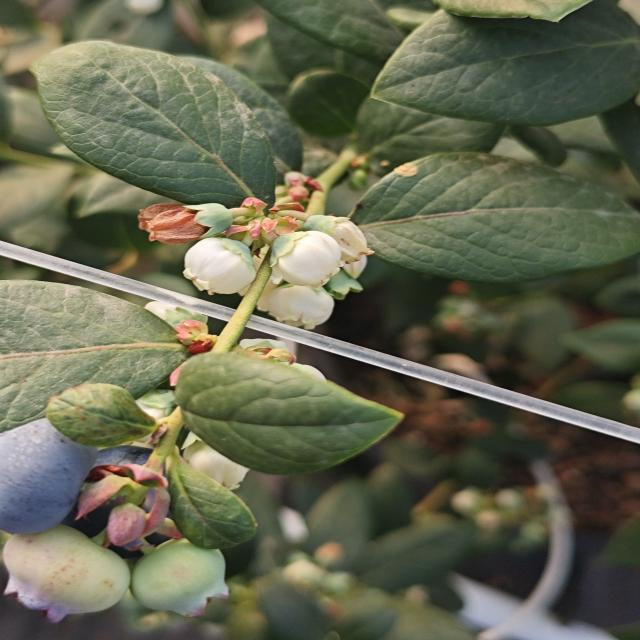ripe: (0, 398, 124, 540), (81, 433, 163, 534)
